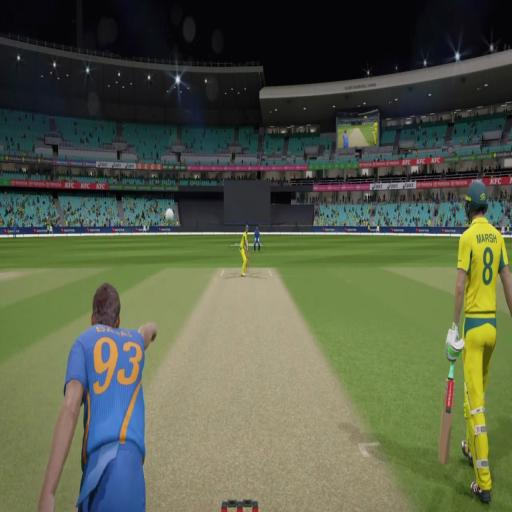ball: (159, 206, 175, 225)
